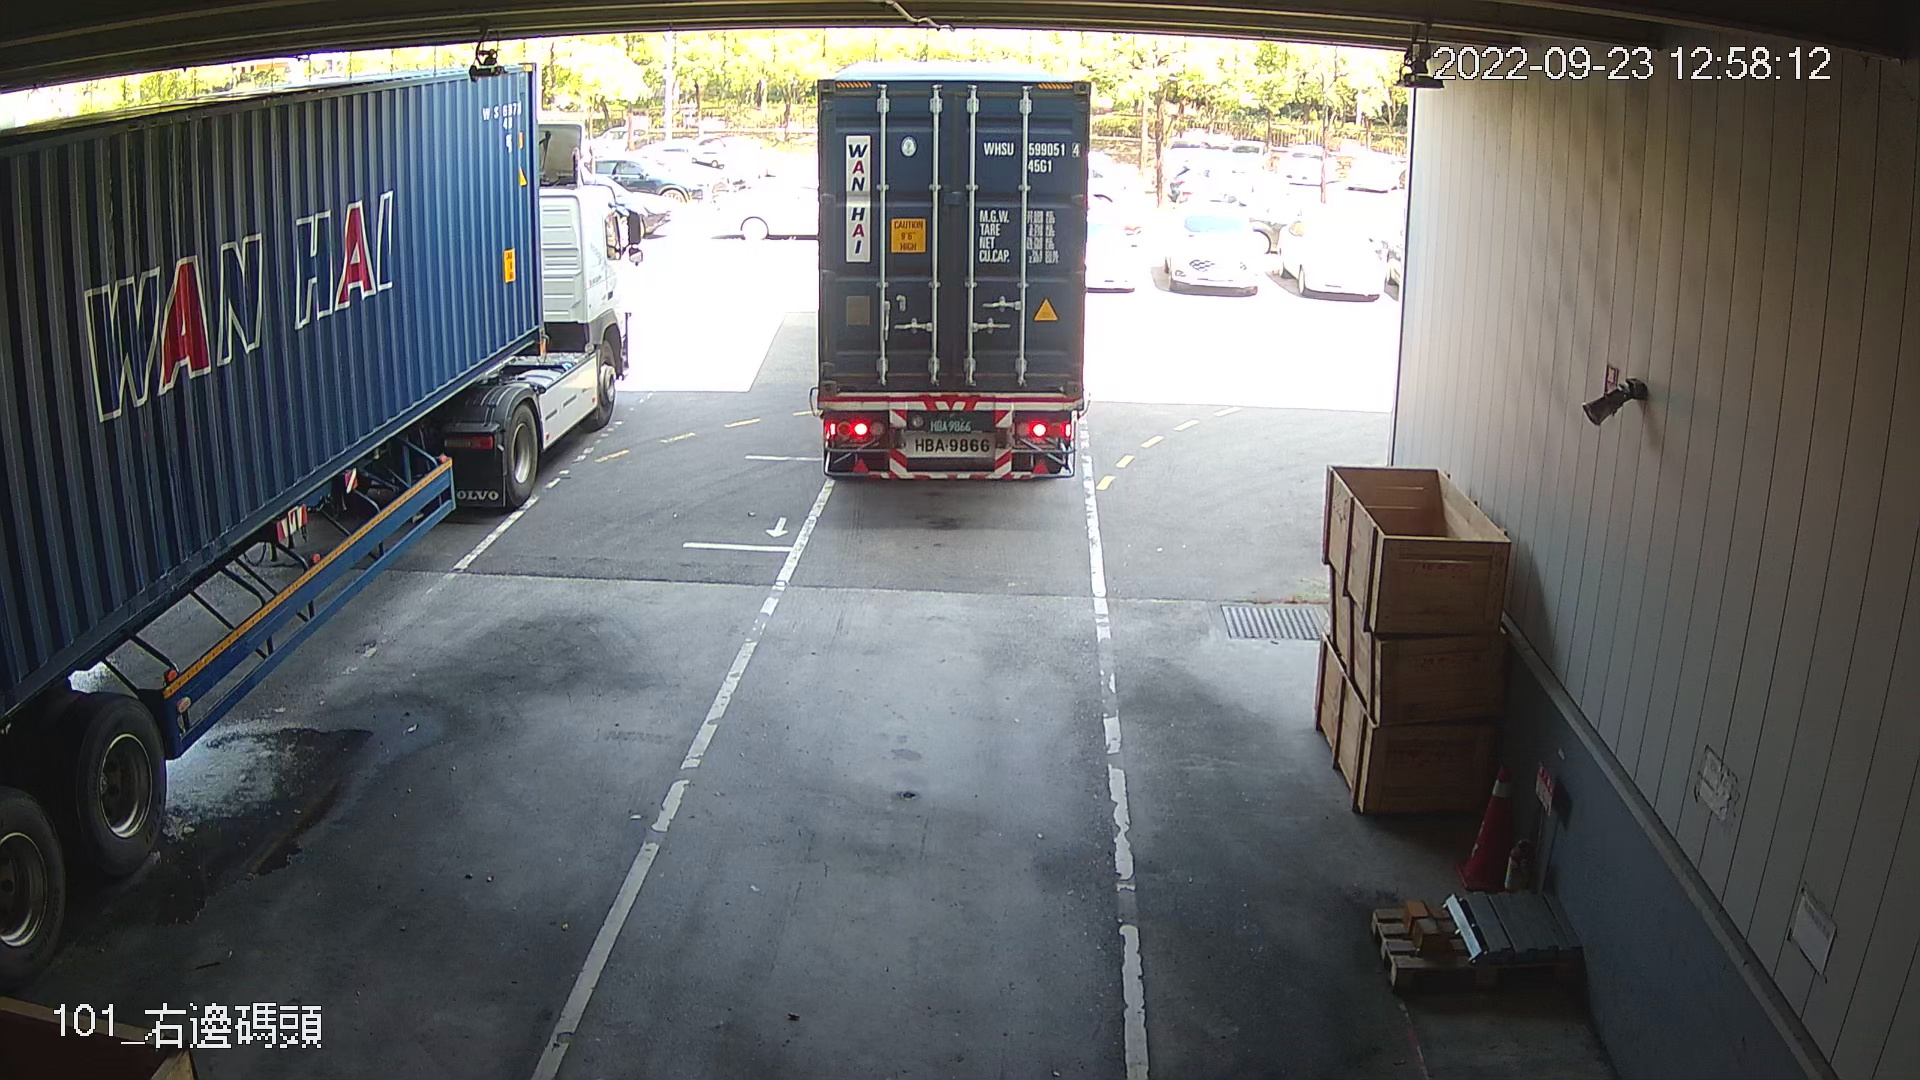container: (976, 135, 1084, 179)
